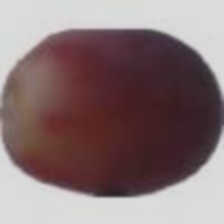grapes: (54, 0, 203, 201)
